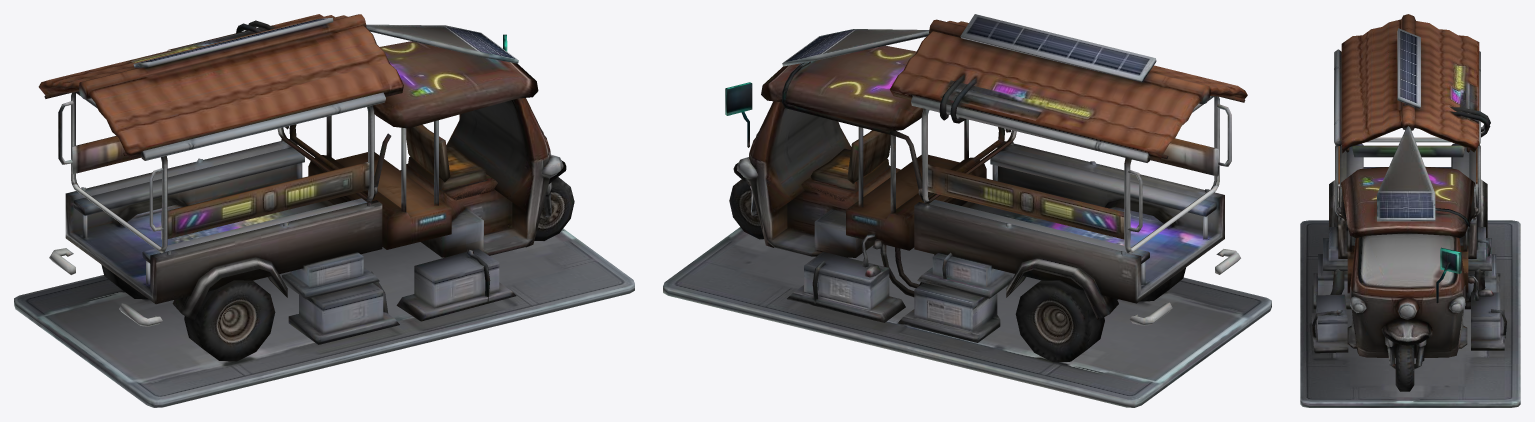
File: city_tuktuk.glb
The picture shows the model from 3 angles, left to right: view 1: azimuth 30°, elevation 25°; view 2: azimuth 150°, elevation 25°; view 3: azimuth 270°, elevation 25°; orthographic projection. The views are drawn at different scales.
Parts seen in each view (by area): view 1: Body; view 2: Body; view 3: Body.
Boxes of the visible parts, bbox=[...] form: Body: bbox=[14, 14, 634, 407]; Body: bbox=[663, 14, 1271, 407]; Body: bbox=[1300, 14, 1520, 407].
Bounding box in the file's own units: 3.2 × 1.8 × 1.63.
Materials: 1 (1 with a texture image).
